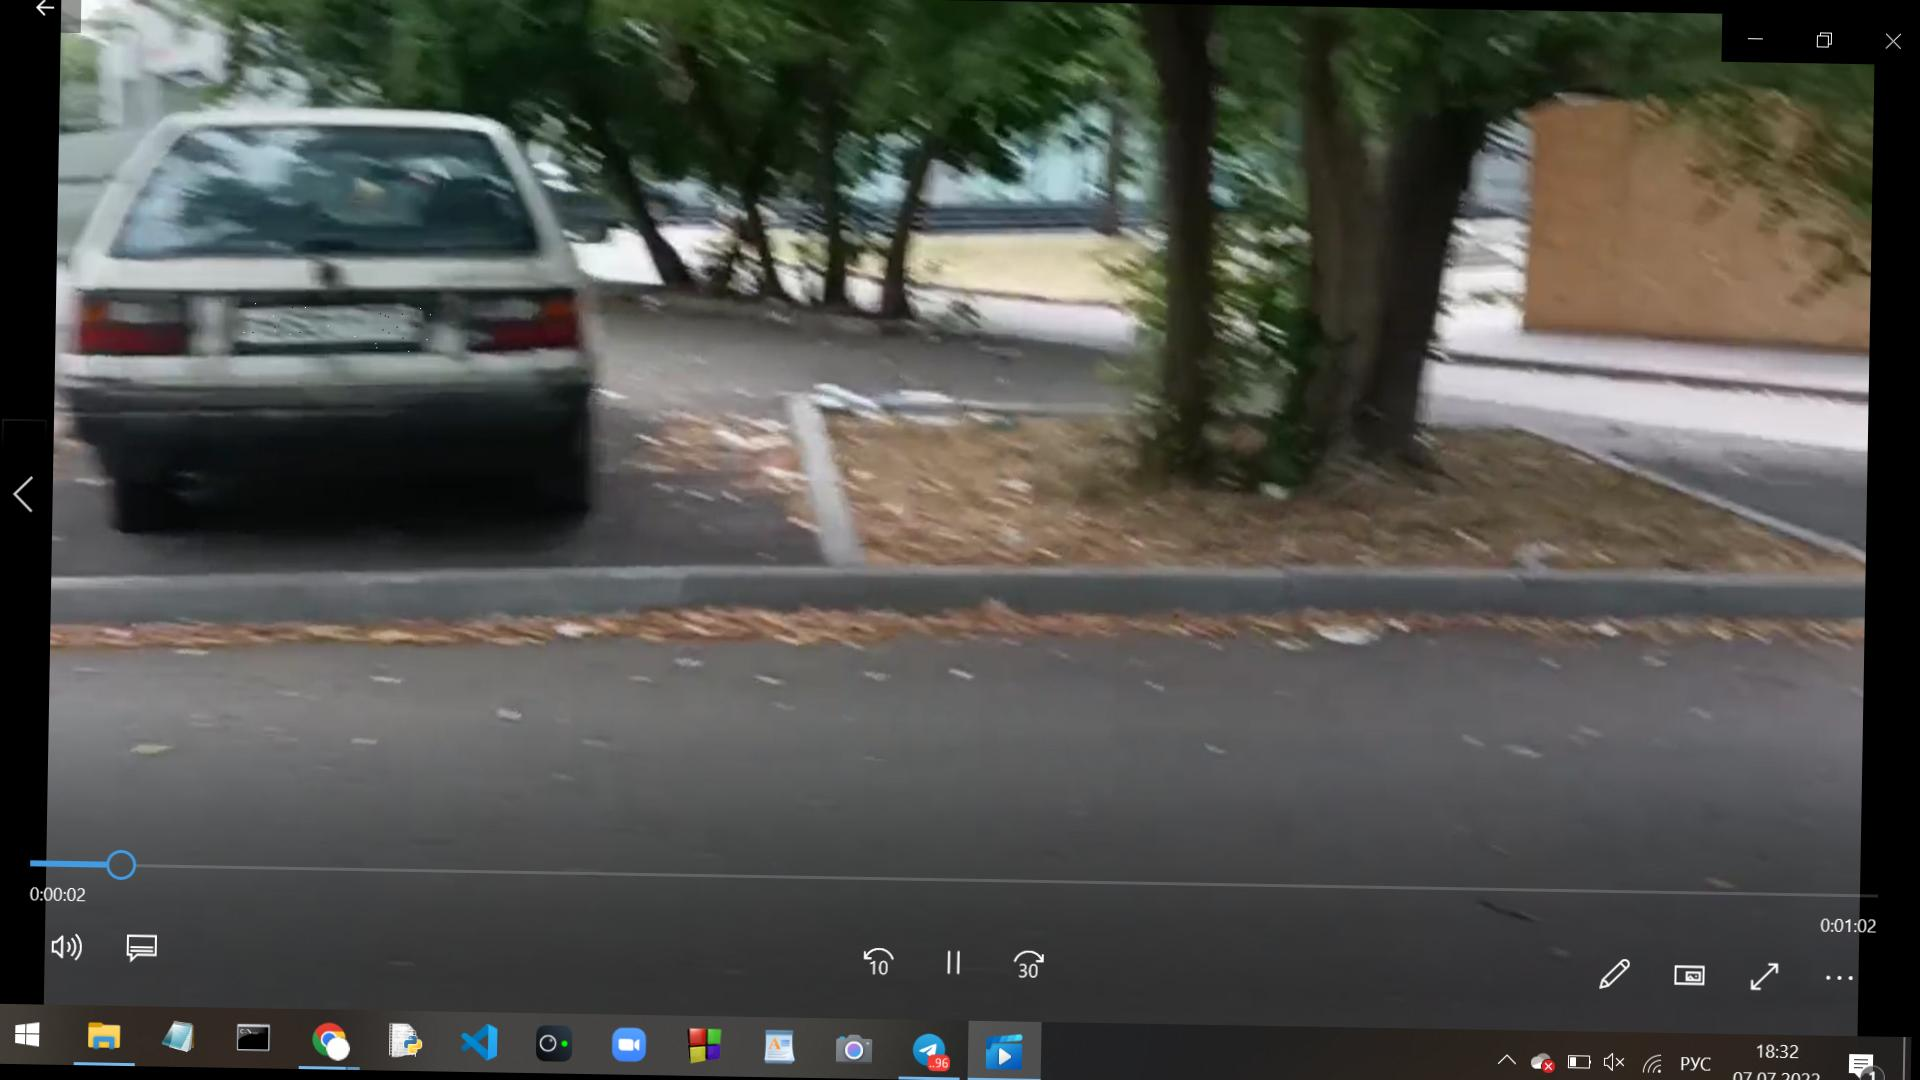plate: (239, 304, 440, 355)
